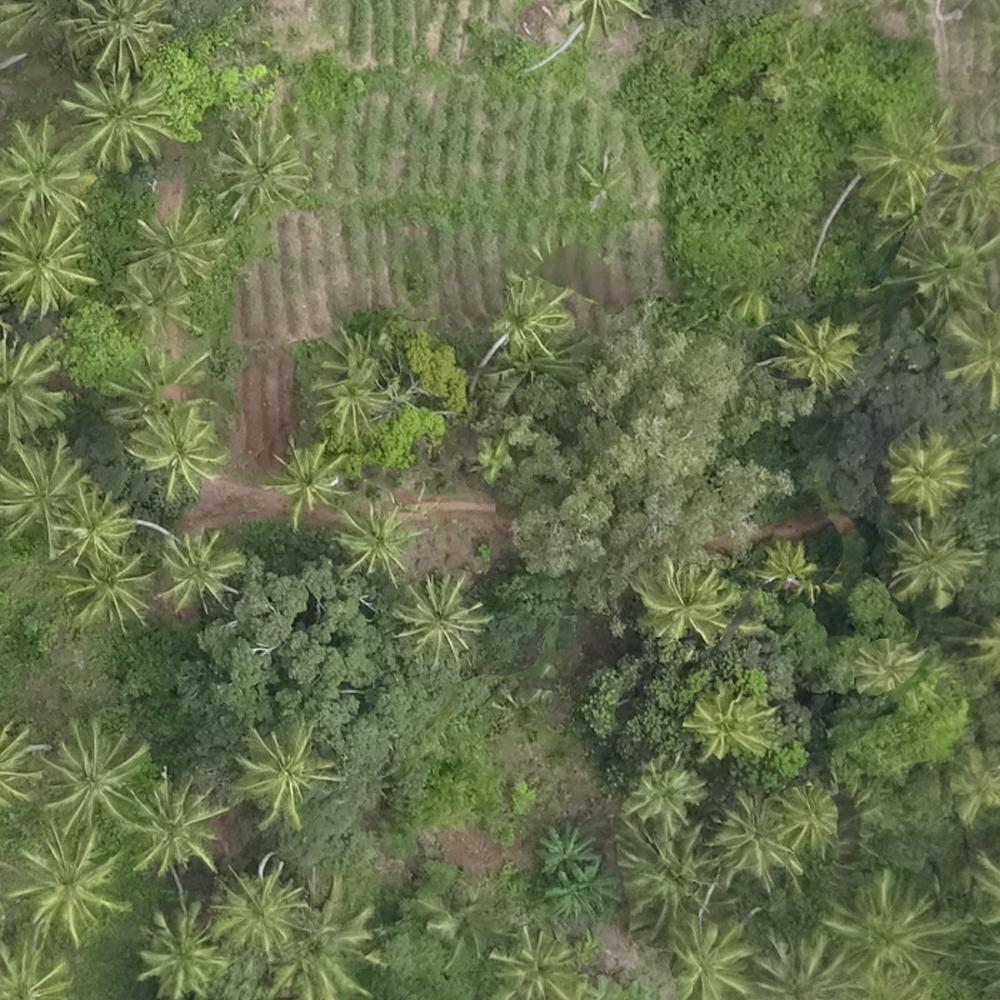Palm: (826, 876, 946, 988), (42, 717, 143, 835), (13, 831, 120, 940), (3, 119, 101, 223), (122, 773, 219, 877), (2, 445, 97, 548), (64, 75, 169, 167), (621, 816, 714, 919), (228, 729, 328, 822), (124, 409, 227, 499), (216, 867, 308, 962), (2, 214, 90, 312), (212, 123, 302, 216), (135, 908, 228, 998), (631, 558, 731, 641), (397, 579, 493, 661), (684, 681, 778, 763), (307, 348, 395, 434), (881, 435, 975, 515), (67, 1, 170, 74), (880, 519, 975, 596), (112, 260, 199, 344), (662, 917, 749, 1000), (158, 531, 246, 613), (1, 333, 66, 443), (141, 208, 228, 290), (61, 551, 151, 629), (267, 438, 350, 521), (713, 792, 793, 877), (48, 486, 135, 563), (490, 929, 580, 1000), (772, 318, 862, 388), (335, 499, 417, 573), (495, 280, 571, 354), (631, 762, 709, 825), (777, 782, 842, 857), (854, 638, 922, 693)
